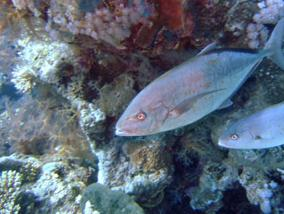Carangidae -Jacks-: (111, 16, 284, 138), (216, 73, 284, 148)
